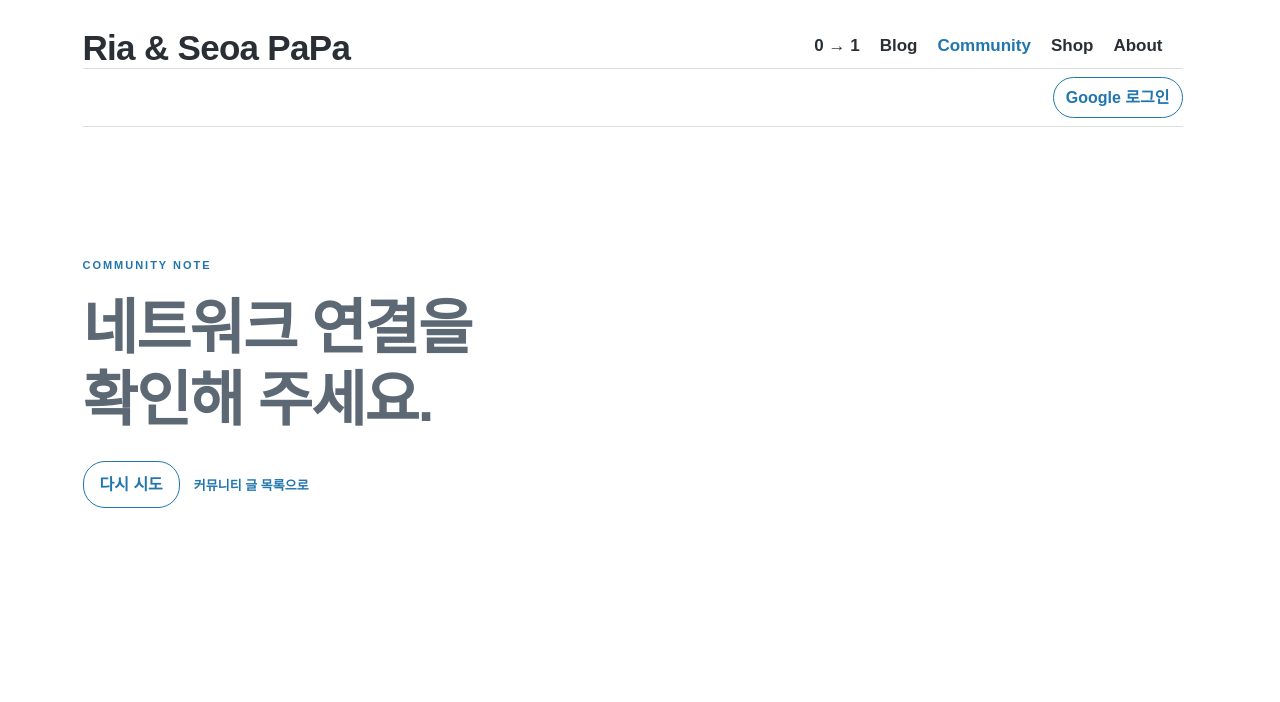
Scenario: PostDetailPage › announces loading and retries a repository error
Expected: the message named "게시글을 불러오고 있습니다" is shown, left=82, top=259, right=471, bottom=508
Expected: the message shows "네트워크 연결을 확인해 주세요.", left=82, top=295, right=471, bottom=434
What coordinates should you click on to do the following:
click the button "다시 시도"
I would click on:
 (131, 485)
Its box is left=82, top=461, right=180, bottom=508.
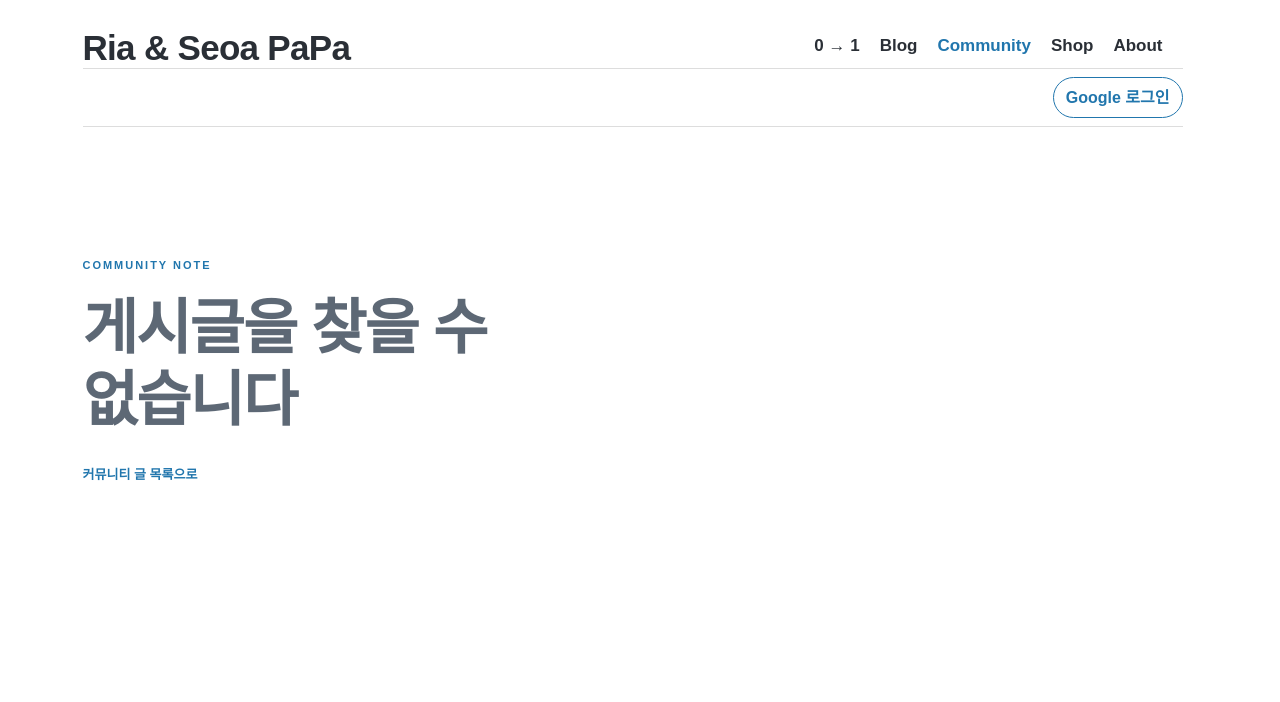
Now the heading "게시글을 찾을 수 없습니다" is shown, box left=82, top=295, right=486, bottom=434
